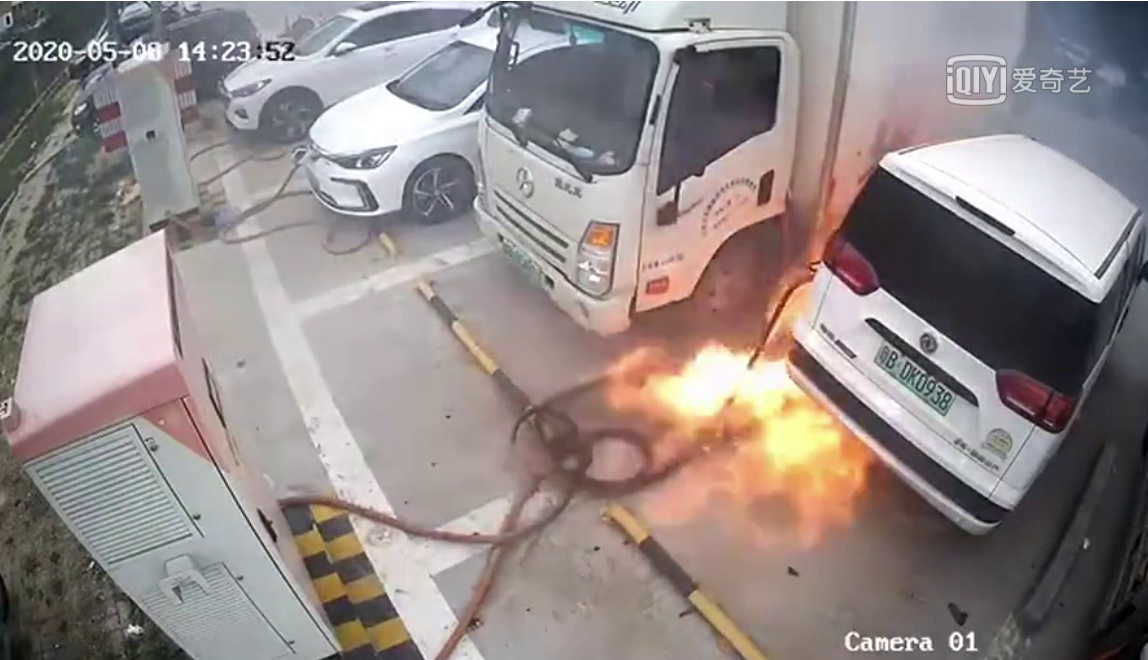fire: (586, 301, 873, 551)
